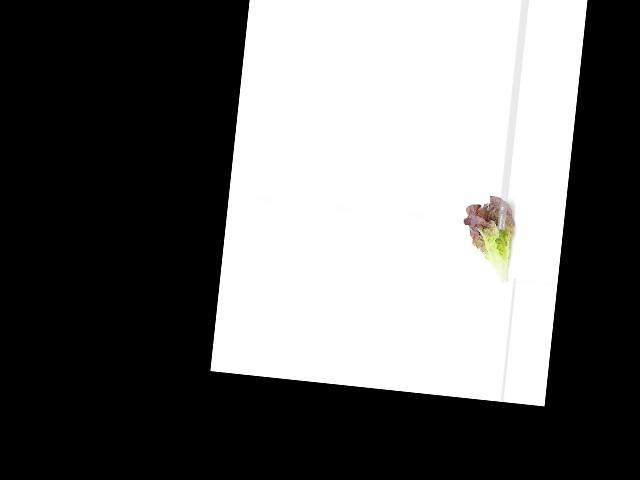lettuce: (456, 191, 522, 286)
